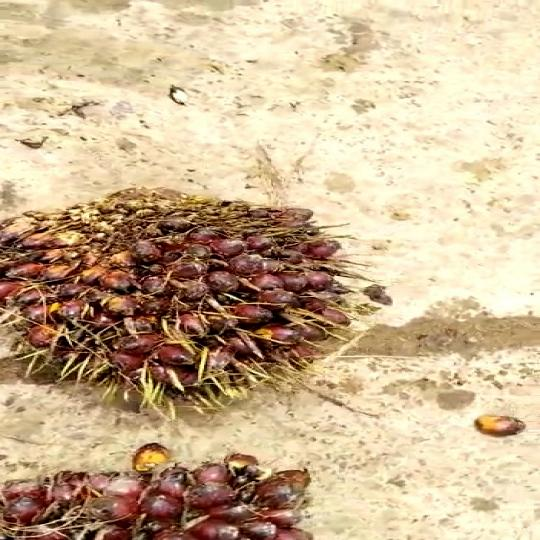kurang masak: (0, 177, 414, 431)
